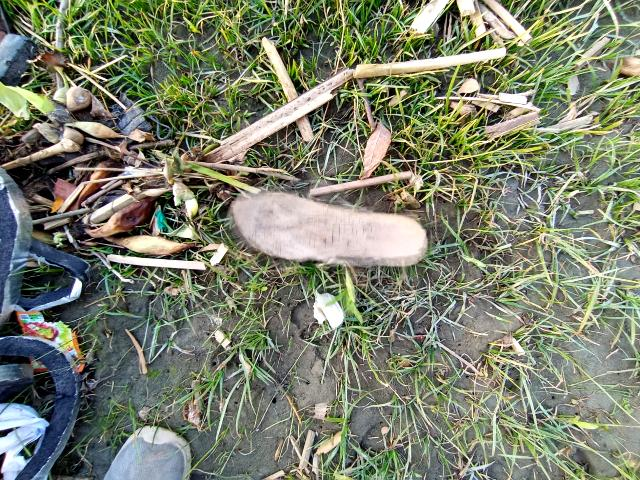sandal: (225, 177, 442, 292)
